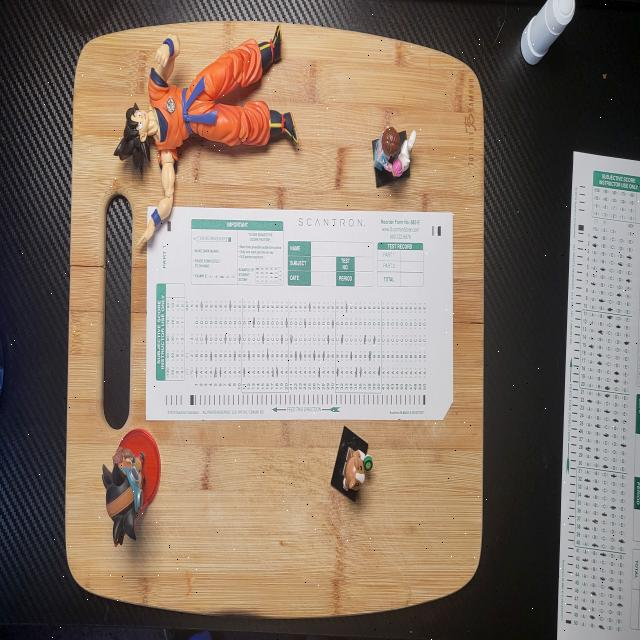scantron: (146, 206, 454, 419)
